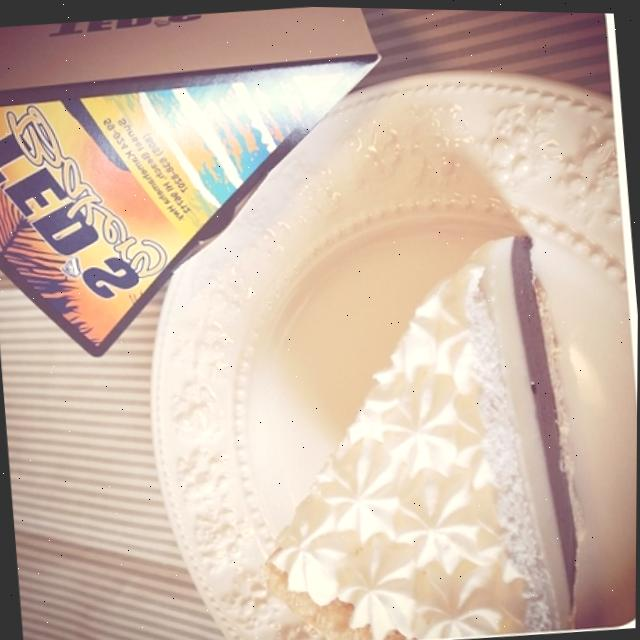蛋糕甜品: (121, 57, 639, 640)
